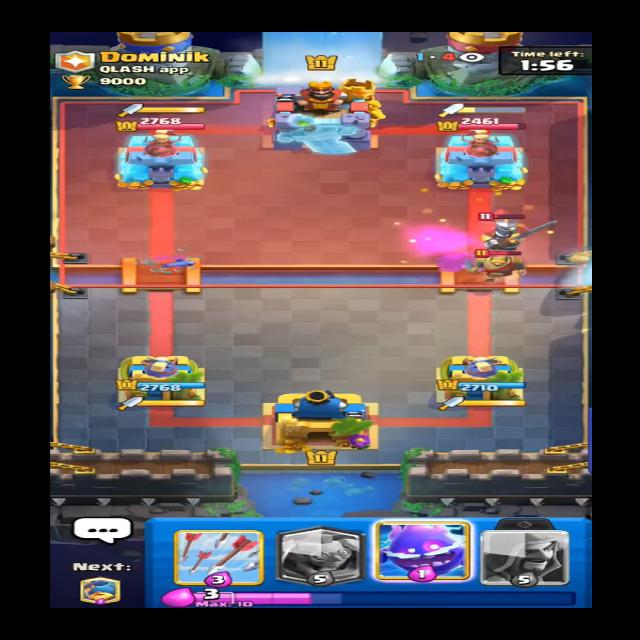guardian: (477, 212, 560, 250)
knight: (468, 245, 530, 283)
